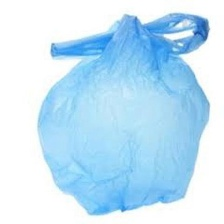plastic_bag: (32, 3, 215, 219)
